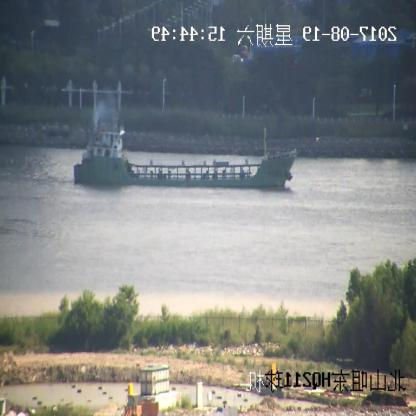Bulk Carrier: (73, 123, 296, 189)
